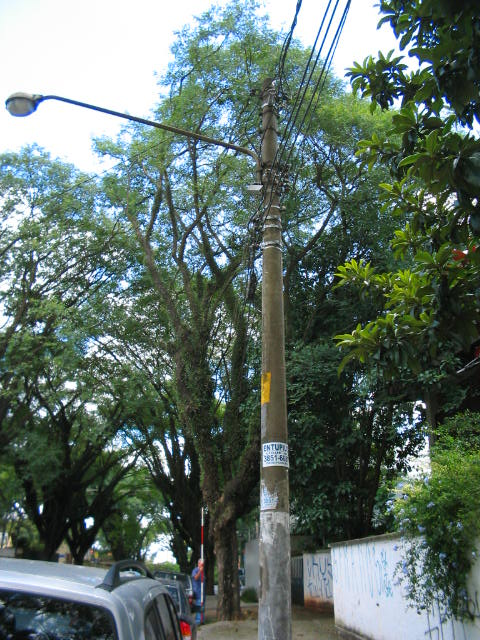crown: (93, 2, 410, 300)
stem: (204, 511, 250, 620)
stick: (194, 510, 208, 622)
tree: (91, 1, 411, 620)
